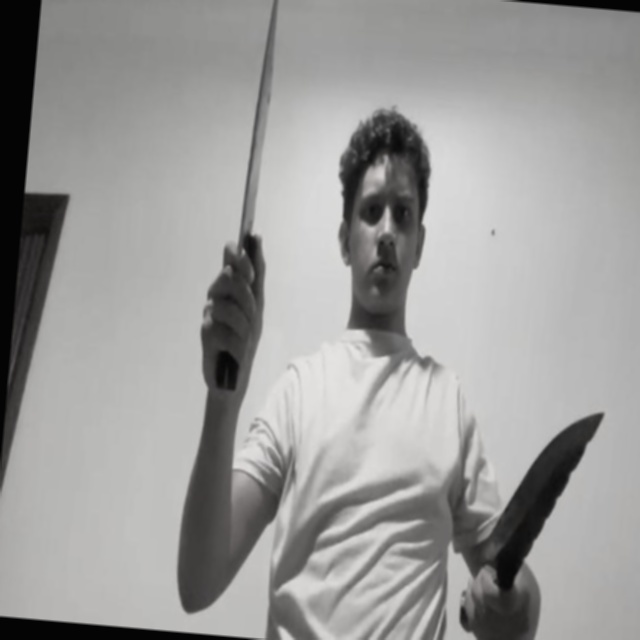Sharp-Object: (482, 402, 604, 571), (233, 0, 285, 254)
